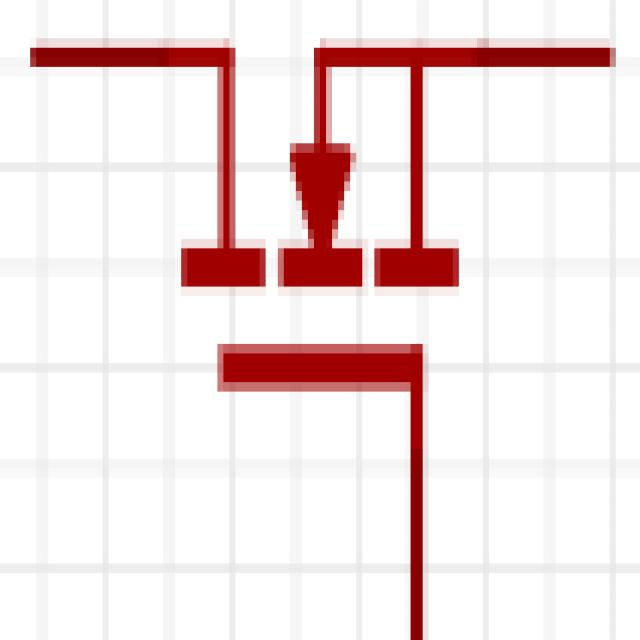pmos: (31, 11, 603, 631)
